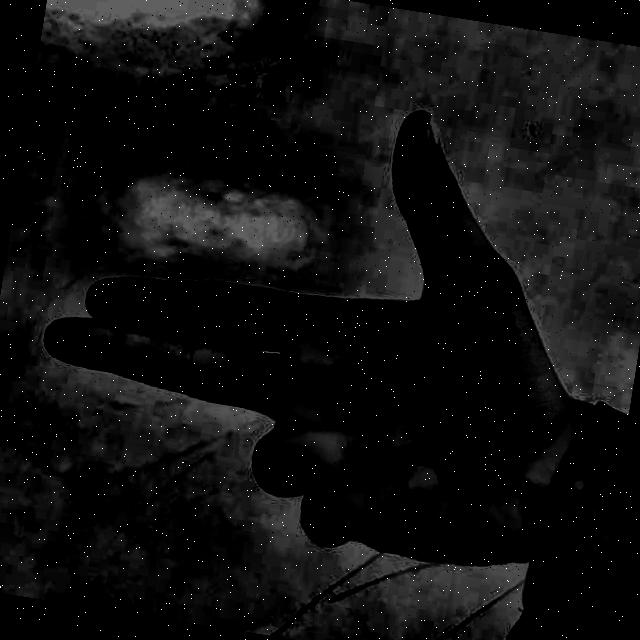Jha: (4, 30, 634, 640)
